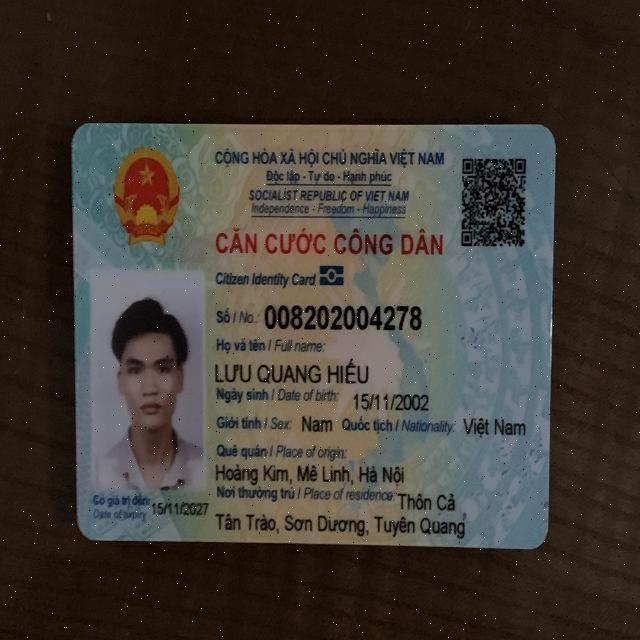current_place: (214, 507, 466, 542), (399, 490, 456, 514)
dob: (349, 387, 429, 412)
expire_date: (153, 493, 211, 521)
gender: (295, 410, 334, 433)
id: (258, 293, 422, 332)
name: (208, 355, 372, 386)
nationality: (463, 408, 533, 447)
origin_place: (213, 459, 405, 489)
qr: (456, 149, 533, 251)
